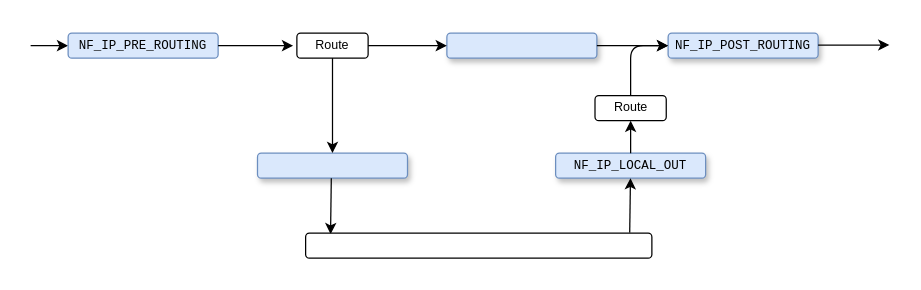
The diagram is 921 pixels wide and 290 high, and some of its shapes have lost their labels. Here are the shapes that lost their labels. From the top down, the centre of each, then its label:
At [522,47]: "NF_IP_FORWARD".
At [333,167]: "NF_IP_LOCAL_IN".
At [478,245]: "Local Processes".
